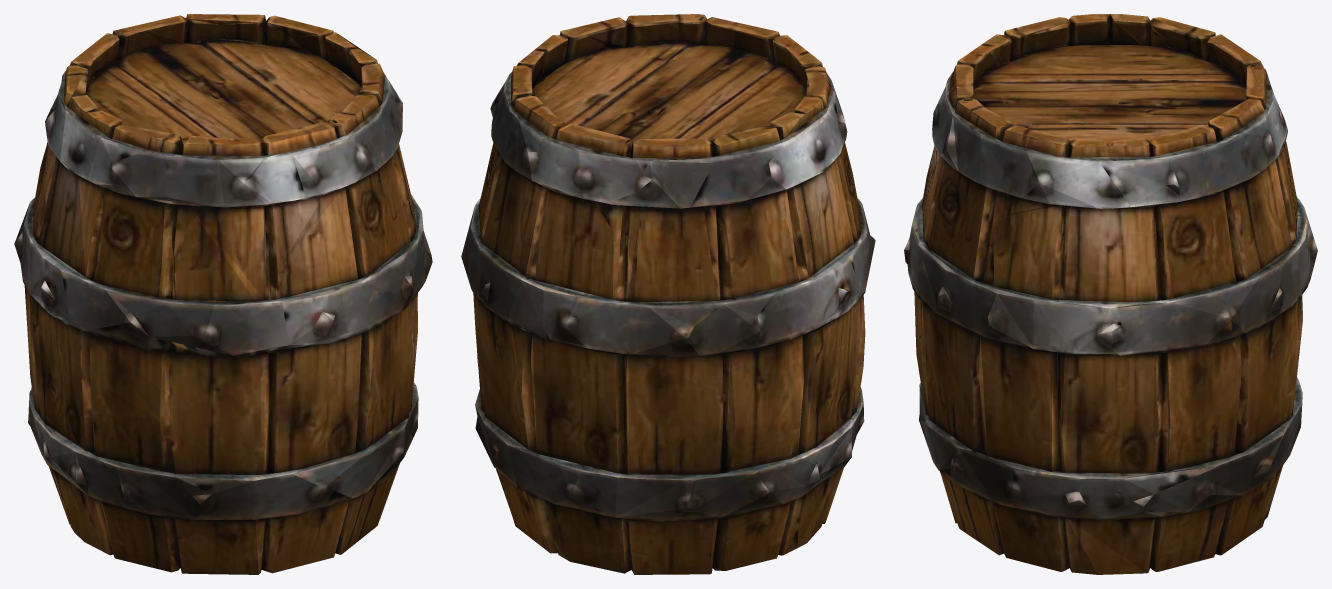
Rendered from barrelWithMesh_00001_.glb.
The picture shows the model from 3 angles, left to right: view 1: azimuth 30°, elevation 25°; view 2: azimuth 150°, elevation 25°; view 3: azimuth 270°, elevation 25°; orthographic projection.
Visible parts, largest first — view 1: geometry_0; view 2: geometry_0; view 3: geometry_0.
Part boxes in pixels (x1,y1,x2,y2): geometry_0: [14, 14, 432, 574]; geometry_0: [461, 14, 875, 574]; geometry_0: [904, 14, 1317, 574].
Bounding box in the file's own units: 0.8756 × 0.9991 × 0.8755.
1 material, 1 textured.
